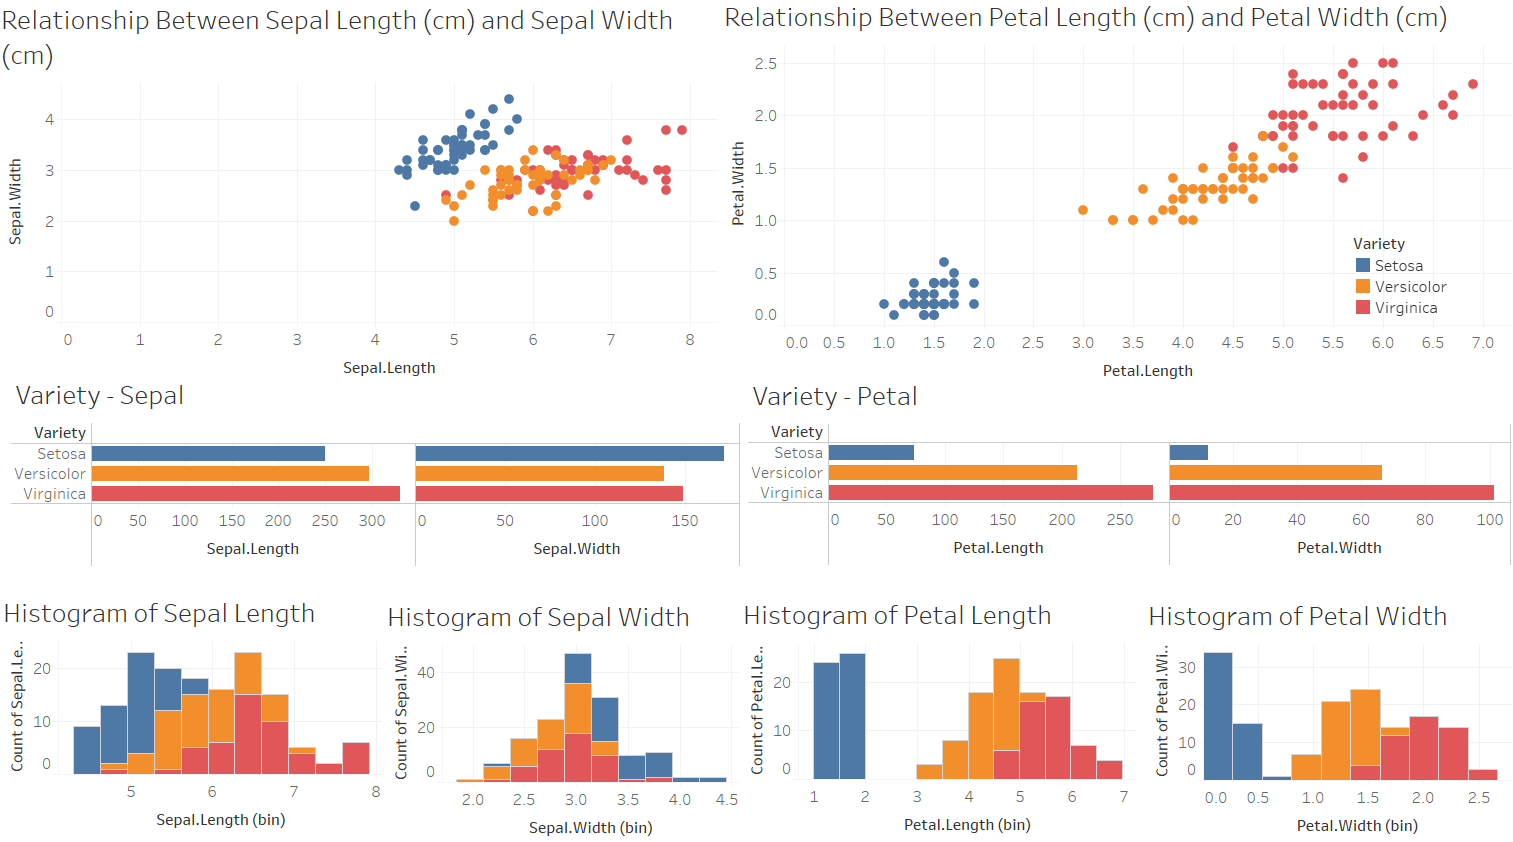

This screenshot's page, from the dashboard's own definition file:
{"tool":"tableau","page":{"name":"Summary","canvas":[1000,1000],"units":"permille","ordinal":0},"visuals":[{"type":"worksheet","title":"Petal","mark":"Automatic","rows":["petal.width"],"cols":["petal.length"],"box":[476.3,1.2,521,461.3]},{"type":"worksheet","title":"Sepal","mark":"Automatic","rows":["sepal.width"],"cols":["sepal.length"],"box":[0.7,4.7,474.3,454.2]},{"type":"legend","title":"Petal","param":"[federated.0rdwwwt014l81n1exvrx21ij3acr].[none:variety:nk]","box":[892.8,280.5,92.1,99.8]},{"type":"worksheet","title":"Variety - Sepal","mark":"Automatic","rows":["variety"],"cols":["sepal.length","sepal.width"],"box":[9.9,444.8,479.6,227.7]},{"type":"worksheet","title":"Variety - Petal","mark":"Automatic","rows":["variety"],"cols":["petal.length","petal.width"],"box":[494.7,446,502.6,252.3]},{"type":"worksheet","title":"Histogram of Sepal Length","mark":"Automatic","rows":["sepal.length"],"cols":["Sepal.Length (bin)"],"box":[2,700.7,253.3,288.7]},{"type":"worksheet","title":"Histogram of Petal Length","mark":"Automatic","rows":["petal.length"],"cols":["Petal.Length (bin)"],"box":[488.8,703.1,261.8,292.2]},{"type":"worksheet","title":"Histogram of Petal Width","mark":"Automatic","rows":["petal.width"],"cols":["Petal.Width (bin)"],"box":[755.3,704.2,242.1,292.2]},{"type":"worksheet","title":"Histogram of Sepal Width","mark":"Automatic","rows":["sepal.width"],"cols":["Sepal.Width (bin)"],"box":[254.6,705.4,234.9,293.4]}]}

Visuals, with their boxes on the dashboard's canvas, which has no fixed pixel size, in thousandths of its width and height (x1, y1, x2, y2). These are canvas units, not pixel positions in the 1513x842 screenshot, which may show the page scaled, cropped or inside an application window:
"Petal" worksheet: {"x1": 476, "y1": 1, "x2": 997, "y2": 462}
"Sepal" worksheet: {"x1": 1, "y1": 5, "x2": 475, "y2": 459}
"Petal" legend: {"x1": 893, "y1": 280, "x2": 985, "y2": 380}
"Variety - Sepal" worksheet: {"x1": 10, "y1": 445, "x2": 490, "y2": 672}
"Variety - Petal" worksheet: {"x1": 495, "y1": 446, "x2": 997, "y2": 698}
"Histogram of Sepal Length" worksheet: {"x1": 2, "y1": 701, "x2": 255, "y2": 989}
"Histogram of Petal Length" worksheet: {"x1": 489, "y1": 703, "x2": 751, "y2": 995}
"Histogram of Petal Width" worksheet: {"x1": 755, "y1": 704, "x2": 997, "y2": 996}
"Histogram of Sepal Width" worksheet: {"x1": 255, "y1": 705, "x2": 490, "y2": 999}
